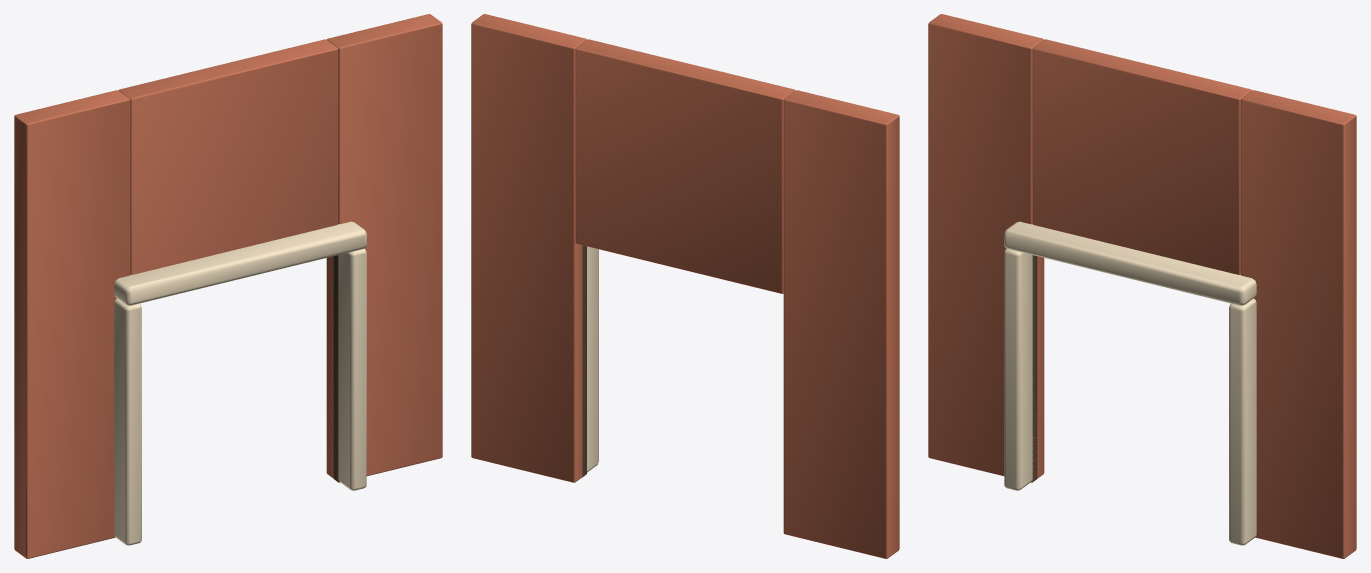
Rendered from Entrance4m.fbx.
3 renders of one model, left to right at view 1: azimuth 30°, elevation 25°; view 2: azimuth 150°, elevation 25°; view 3: azimuth 330°, elevation 25°, orthographic.
Visible parts, largest first — view 1: Entrance4m_Brick, Entrance4m_Trim, Entrance4m_DarkWood; view 2: Entrance4m_Brick, Entrance4m_Trim, Entrance4m_DarkWood; view 3: Entrance4m_Brick, Entrance4m_Trim, Entrance4m_DarkWood.
Boxes of the visible parts, bbox=[...] form: Entrance4m_Brick: bbox=[14, 14, 442, 558]; Entrance4m_Trim: bbox=[114, 221, 366, 545]; Entrance4m_DarkWood: bbox=[333, 255, 338, 482]; Entrance4m_Brick: bbox=[471, 14, 899, 558]; Entrance4m_Trim: bbox=[587, 246, 598, 471]; Entrance4m_DarkWood: bbox=[582, 245, 586, 477]; Entrance4m_Brick: bbox=[928, 14, 1356, 558]; Entrance4m_Trim: bbox=[1004, 221, 1256, 545]; Entrance4m_DarkWood: bbox=[1032, 255, 1037, 482].
Size of the model in its own units: 4 by 4 by 0.44.
